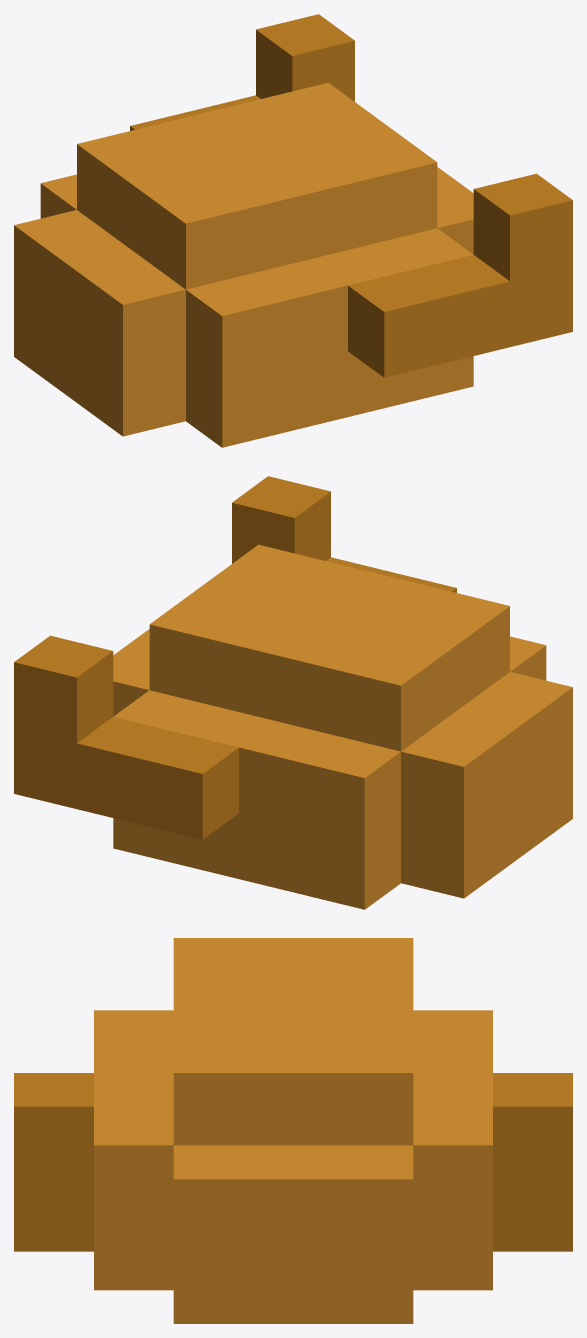
File: PouletBBQ.dae
The picture shows the model from 3 angles, top to bottom: view 1: azimuth 30°, elevation 25°; view 2: azimuth 150°, elevation 25°; view 3: azimuth 270°, elevation 25°; orthographic projection. The views are drawn at different scales.
Visible parts, largest first — view 1: Poulet; view 2: Poulet; view 3: Poulet.
Boxes of the visible parts, x1=… form: Poulet: x1=14, y1=14, x2=572, y2=447; Poulet: x1=14, y1=476, x2=572, y2=909; Poulet: x1=14, y1=938, x2=572, y2=1323.
Size of the model in its own units: 6 by 3 by 7.
Materials: 1 (1 with a texture image).
